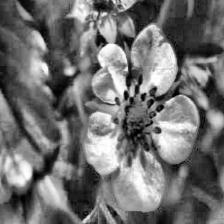Blossom Blight: (110, 72, 167, 154), (76, 0, 133, 25)
